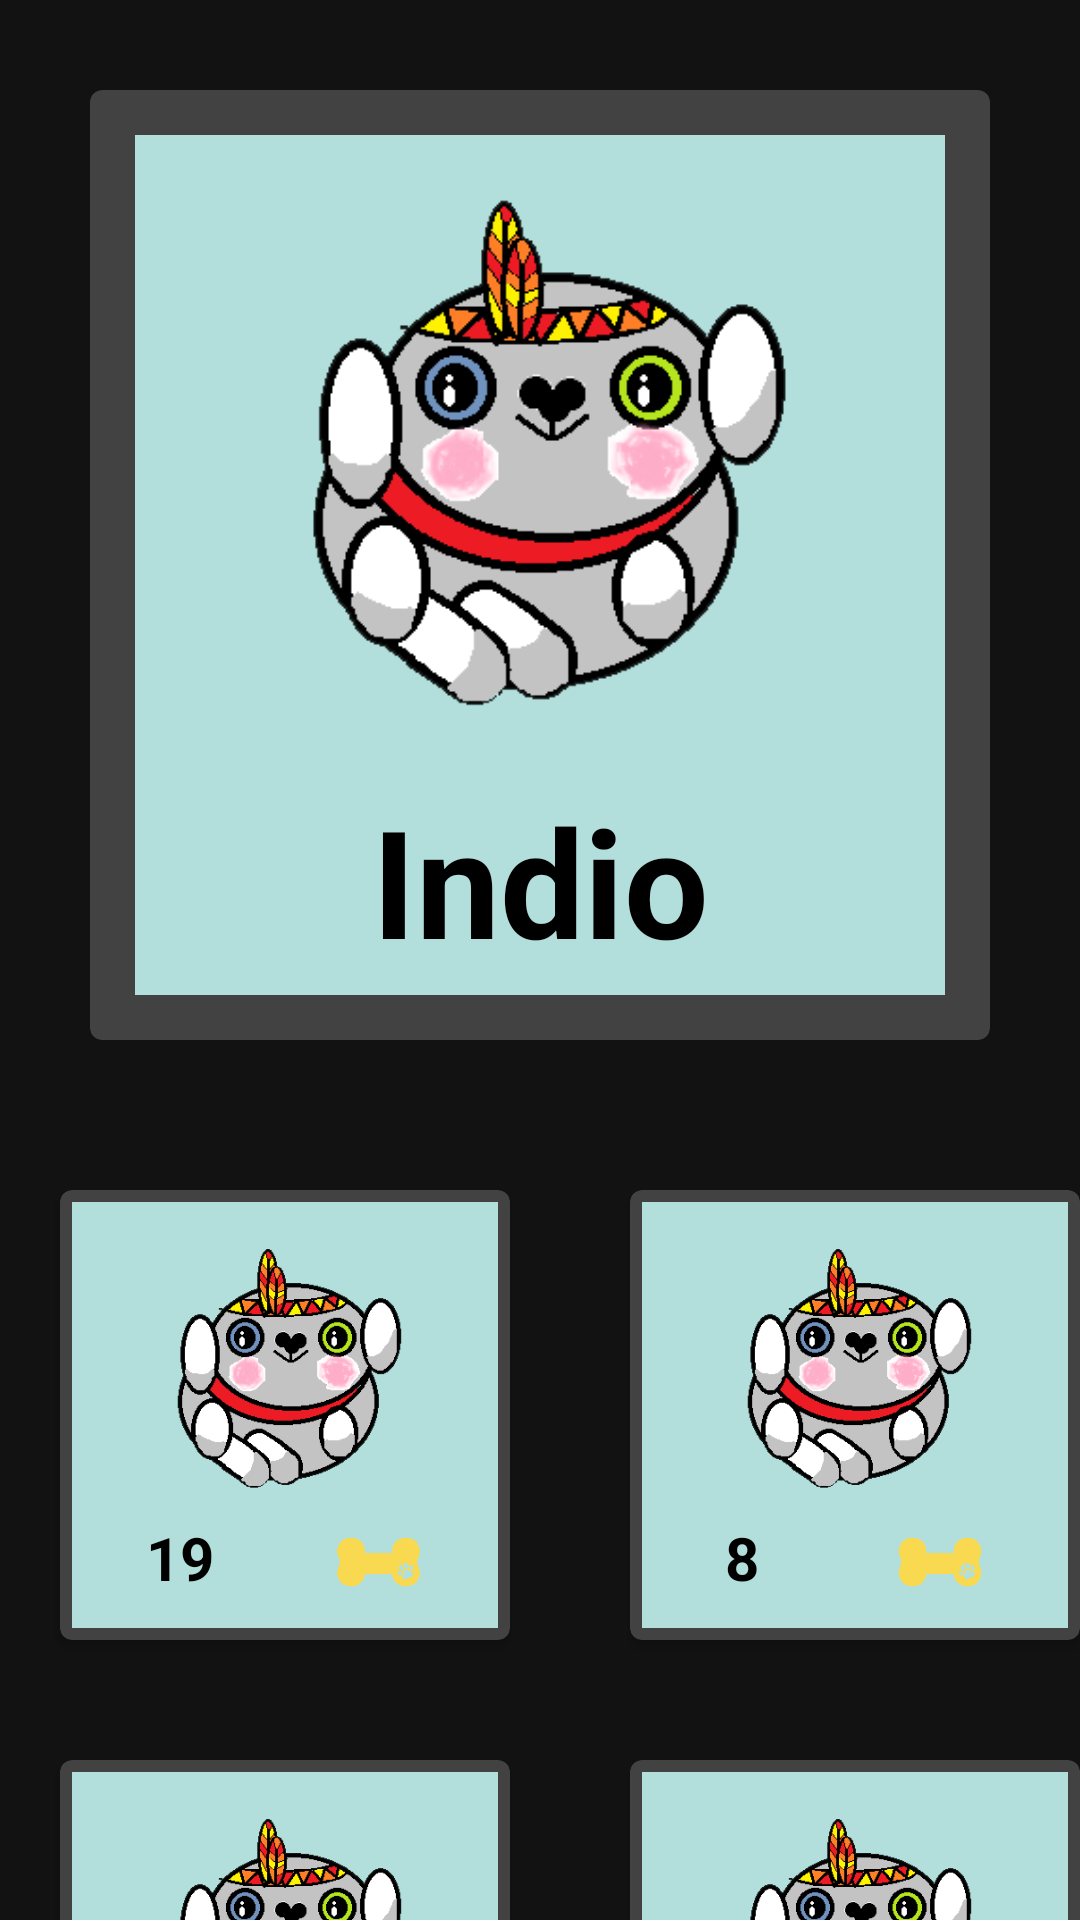

Icons on this 1080 × 1920 Android screen, each with the point to tap as point (x, y):
amarillo: point (378, 1562), point (940, 1562)
